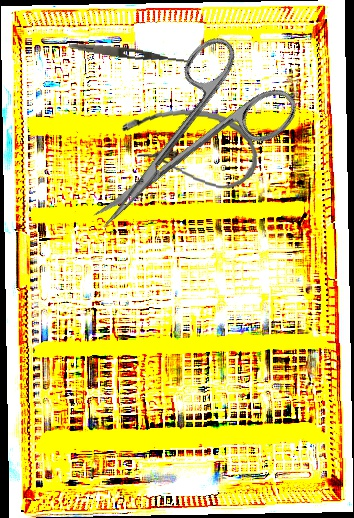Cannula: (116, 104, 262, 192)
Dressing Forceps: (67, 40, 195, 67)
Iris Scissors: (56, 22, 305, 264)
